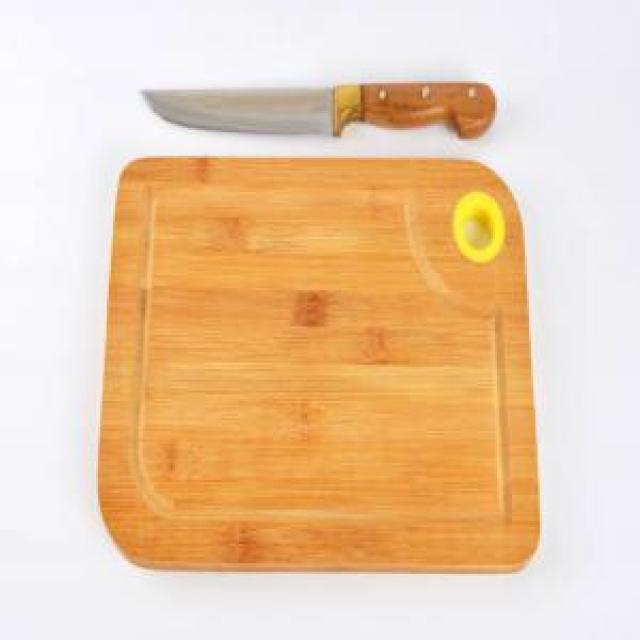knife: (145, 73, 499, 144)
